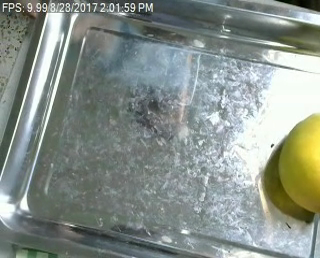Mango: (277, 114, 320, 212)
